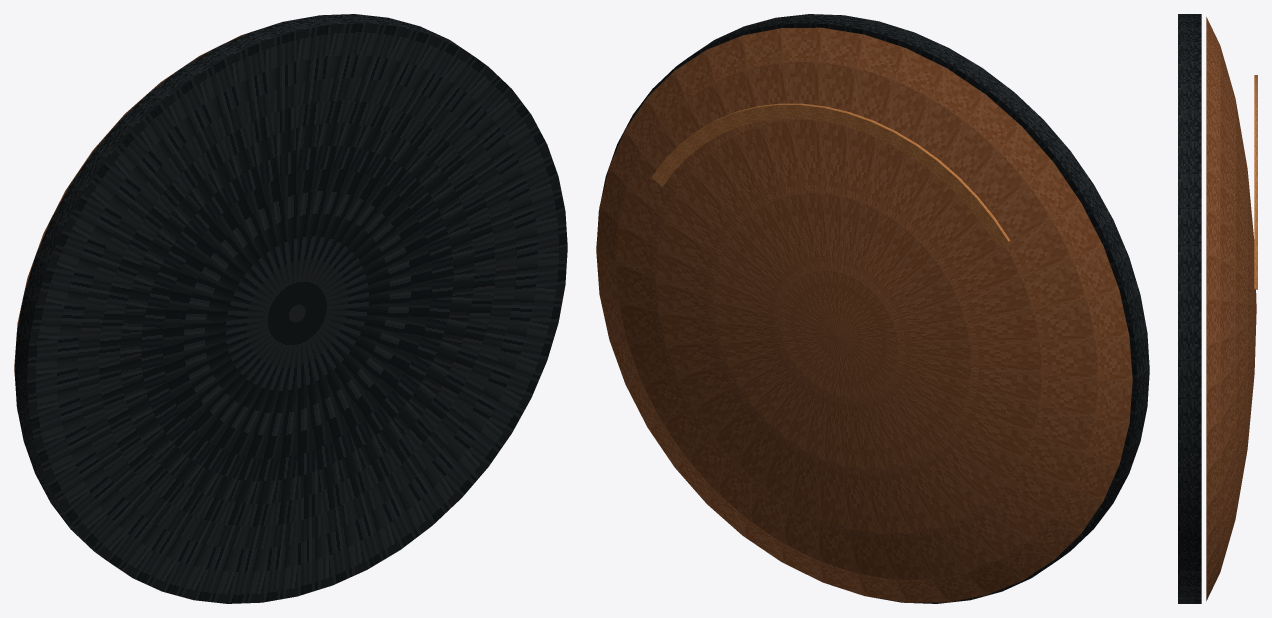
Rendered from destiny_door_controller_button_down.obj.
3 renders of one model, left to right at view 1: azimuth 30°, elevation 25°; view 2: azimuth 150°, elevation 25°; view 3: azimuth 270°, elevation 25°, orthographic. The views are drawn at different scales.
Visible parts, largest first — view 1: Destiny_airlock_controller; view 2: Destiny_airlock_controller; view 3: Destiny_airlock_controller.
Part boxes in pixels (bbox=[...]): Destiny_airlock_controller: bbox=[14, 14, 567, 603]; Destiny_airlock_controller: bbox=[596, 14, 1149, 603]; Destiny_airlock_controller: bbox=[1178, 14, 1257, 603].
Bounding box in the file's own units: 0.2117 × 0.2117 × 0.0286.
